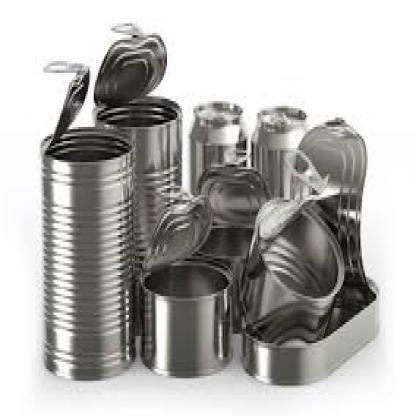METAL: (38, 61, 136, 376), (94, 24, 178, 336), (40, 122, 134, 381), (94, 94, 180, 336), (237, 195, 343, 346), (283, 118, 370, 298), (239, 275, 378, 385), (139, 254, 233, 378), (194, 223, 266, 334), (195, 148, 272, 230), (92, 21, 166, 106), (142, 181, 212, 266), (251, 106, 306, 209), (189, 101, 246, 197), (42, 58, 88, 146)
